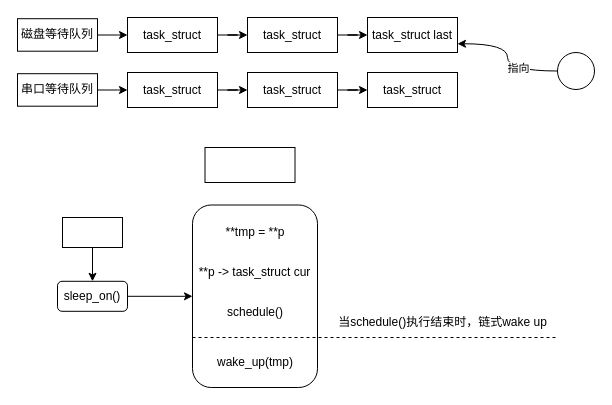
This 612x405 diagram has some shape labels left out. The shapes that lost their labels are listed below. From the top down, each one's centre as x and y in pixels, then its label:
At point (575, 71): "**p".
At point (249, 164): "task_struct cur".
At point (92, 232): "进程 cur".
